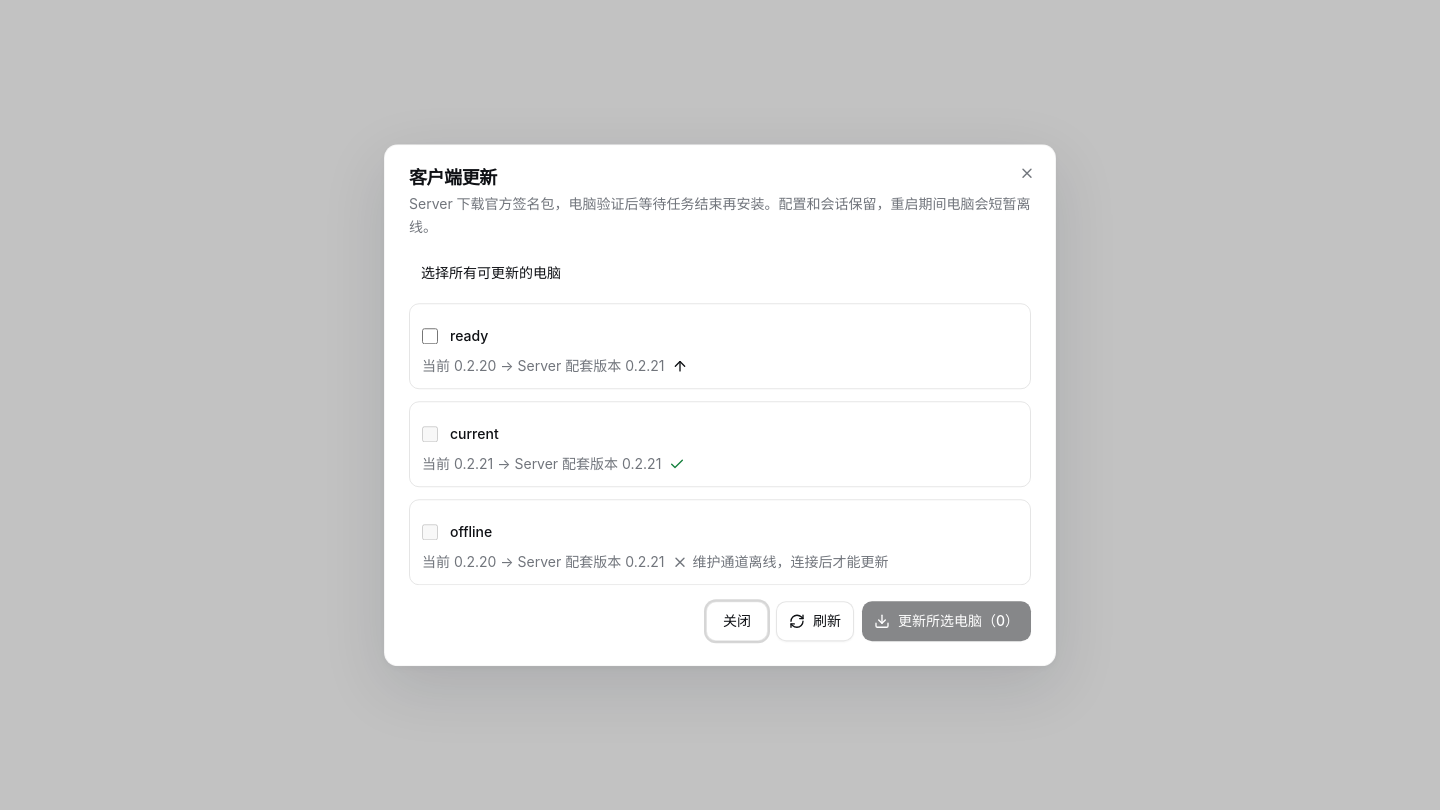
Test: batch submission only targets selected eligible owned computers
Click the button "选择所有可更新的电脑": (491, 273) [409,255,573,291]
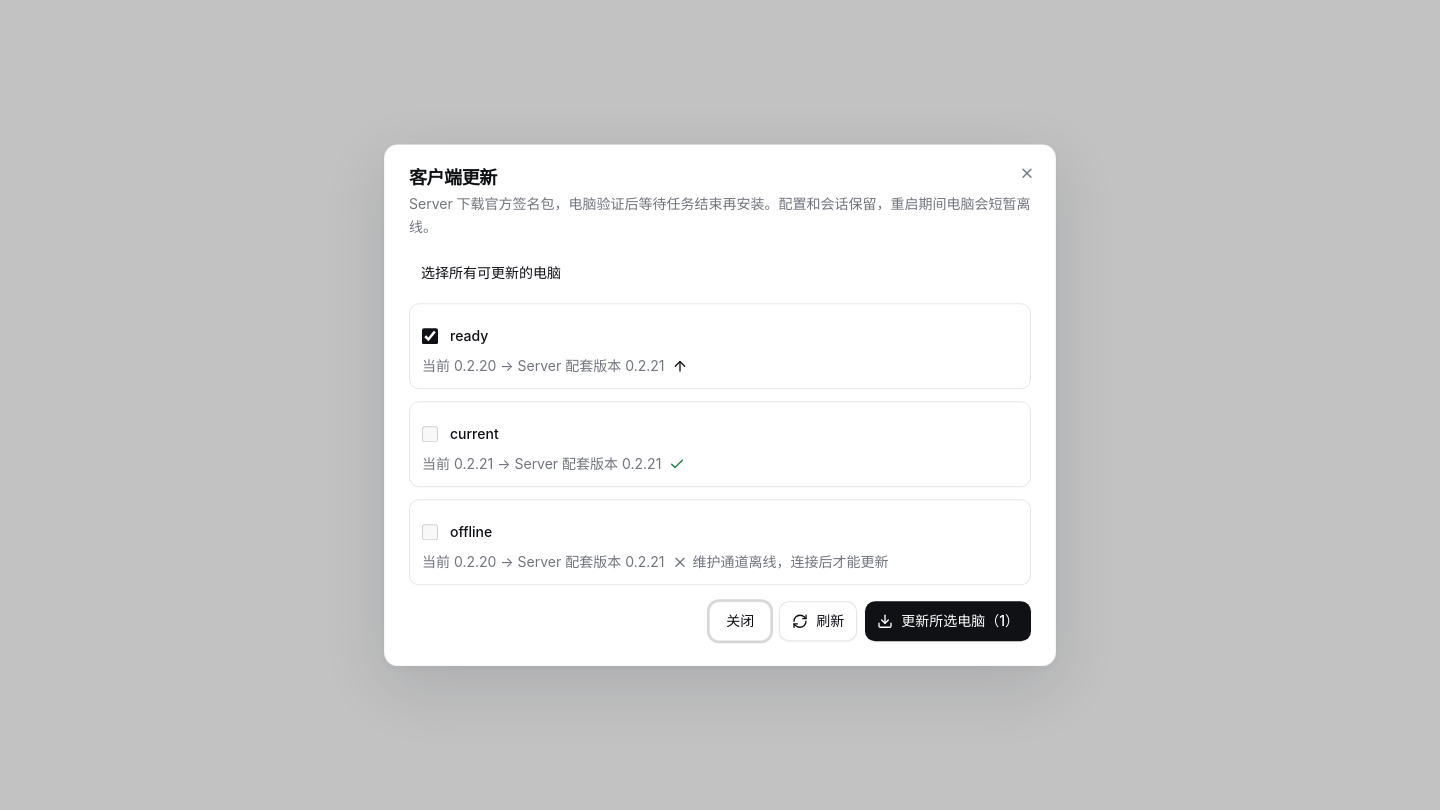
Click the button "更新所选电脑（1）": (948, 621) [865,601,1031,641]
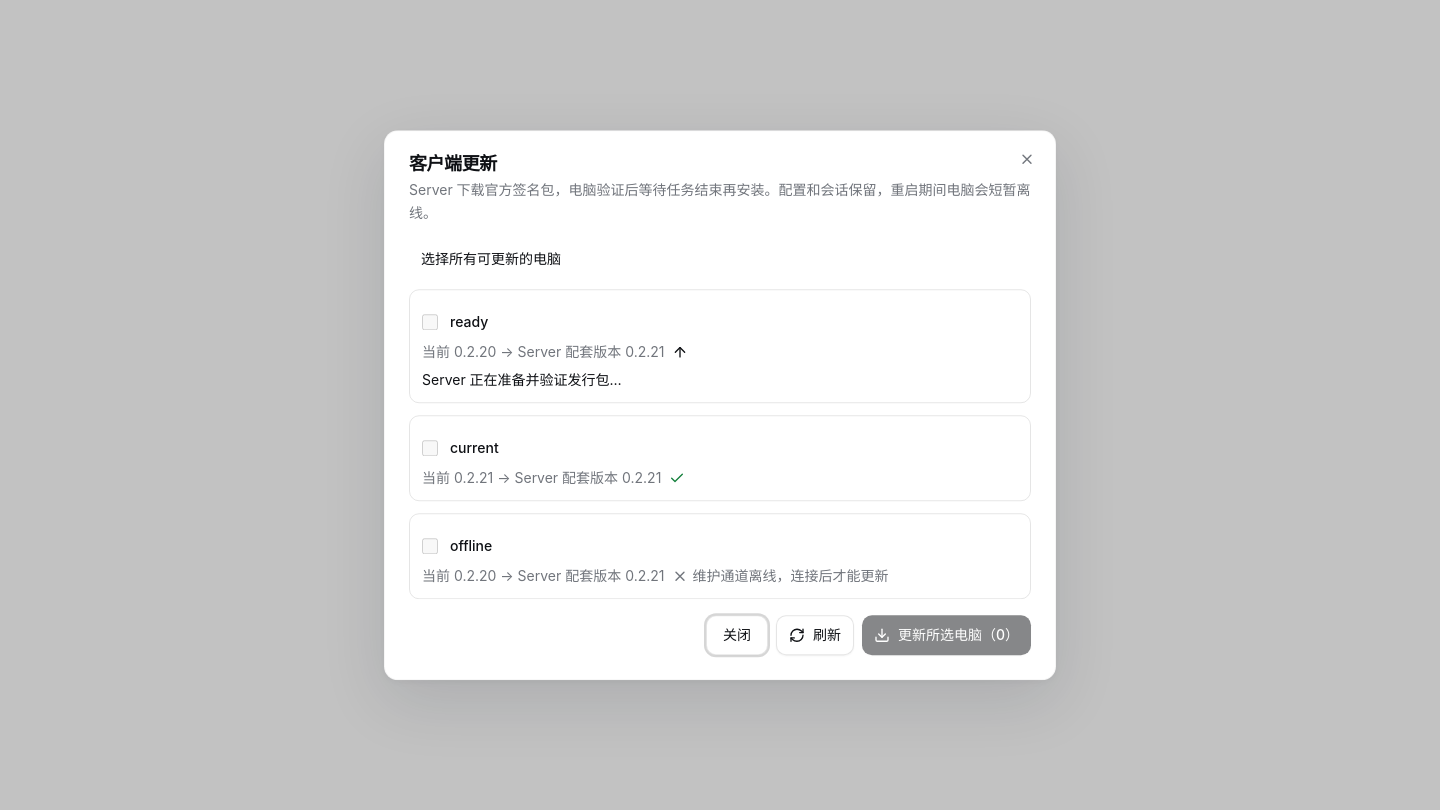
expect the element showing "ready 当前 0.2.20 → Server 配套版本 0.2.21 Server 正在准备并验证发行包…" is shown: met, box [409,289,1031,403]
